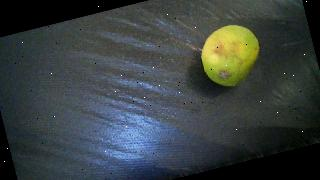DESECHO: (195, 20, 267, 92)
